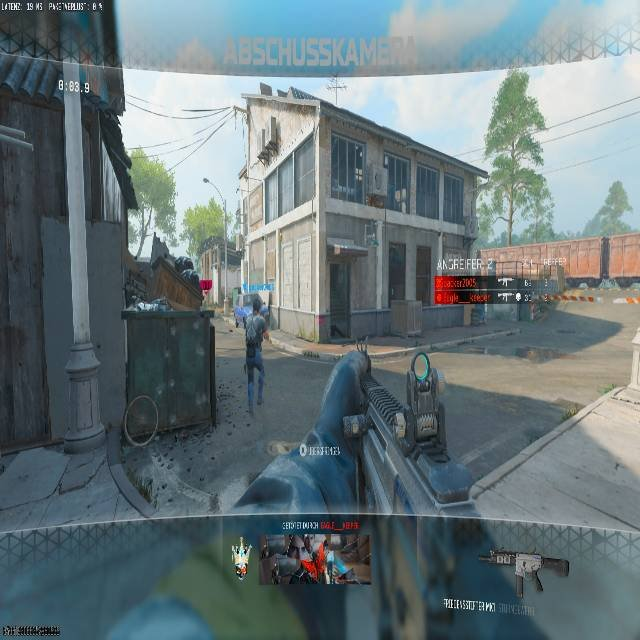head: (251, 294, 262, 310)
player: (240, 295, 271, 406)
